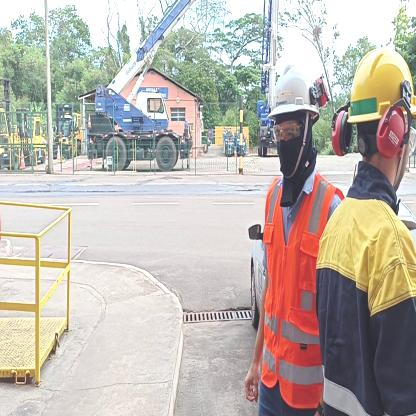Balaclava: (268, 113, 320, 200)
C_eletrica: (322, 191, 416, 416)
Capacete: (341, 42, 416, 126), (265, 60, 321, 116)
colete: (264, 188, 320, 402)
